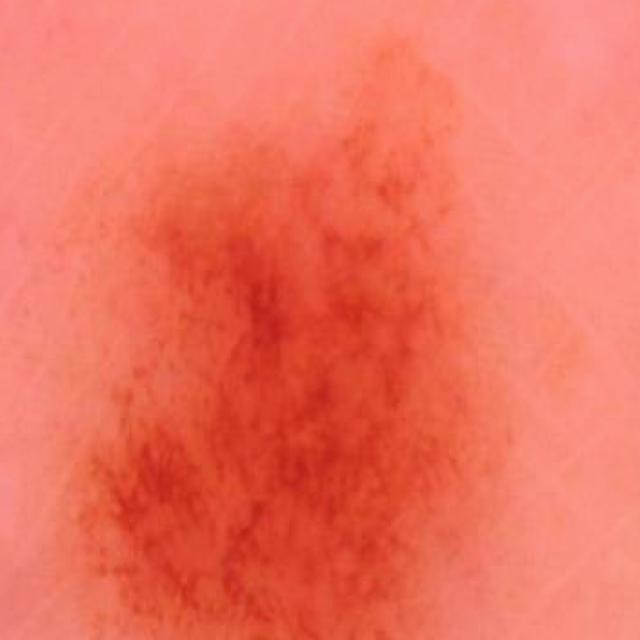NV: (71, 35, 529, 640)
